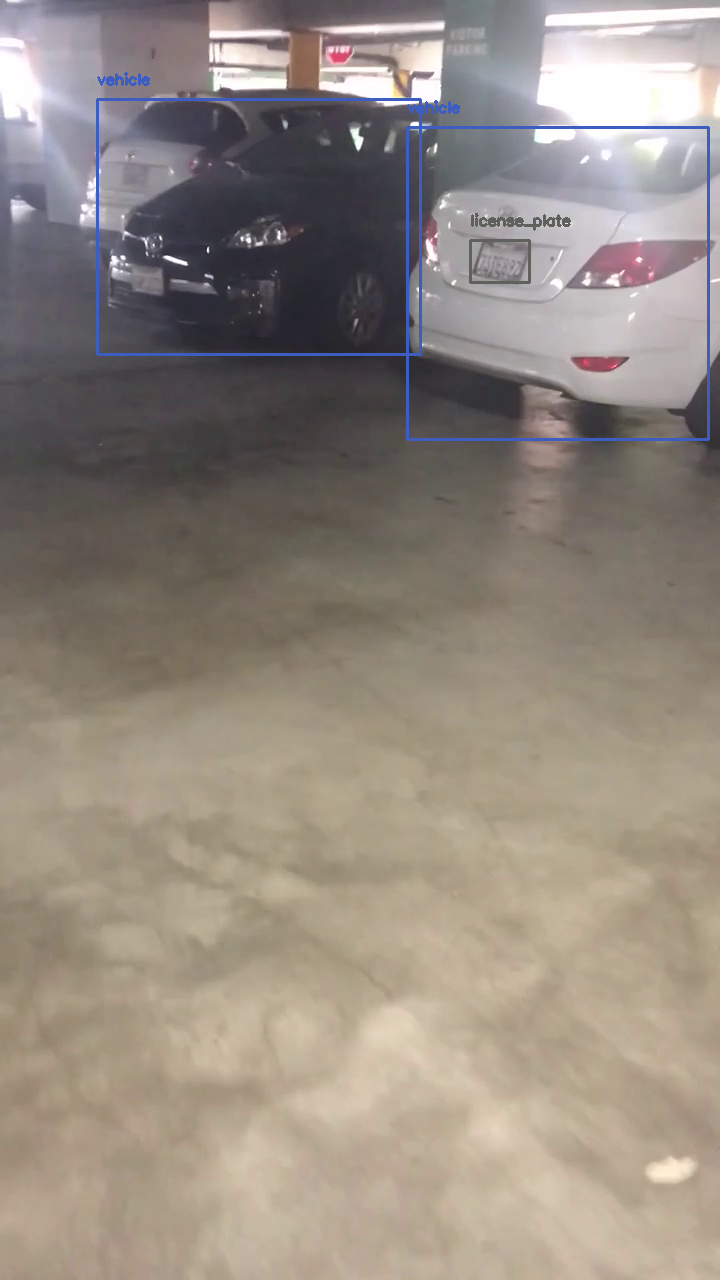license_plate: (470, 240, 529, 282)
vehicle: (407, 127, 708, 439), (97, 99, 420, 354)
